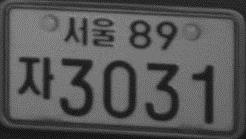0: (101, 60, 138, 119)
1: (189, 64, 228, 124)
3: (144, 60, 180, 122), (57, 57, 94, 116)
8: (128, 19, 152, 49)
9: (155, 19, 178, 51)
서울_H: (62, 16, 116, 48)
자: (16, 55, 55, 100)
